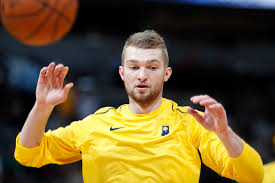hand: (187, 95, 228, 135), (36, 62, 73, 106)
